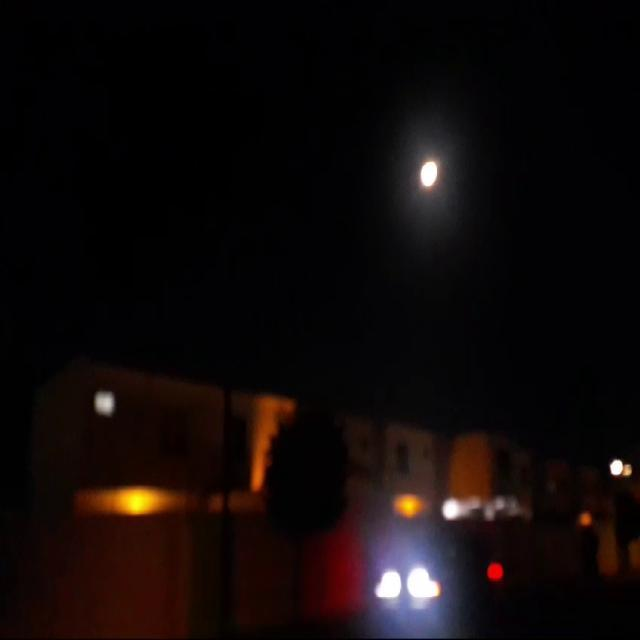moon: (402, 156, 422, 190)
